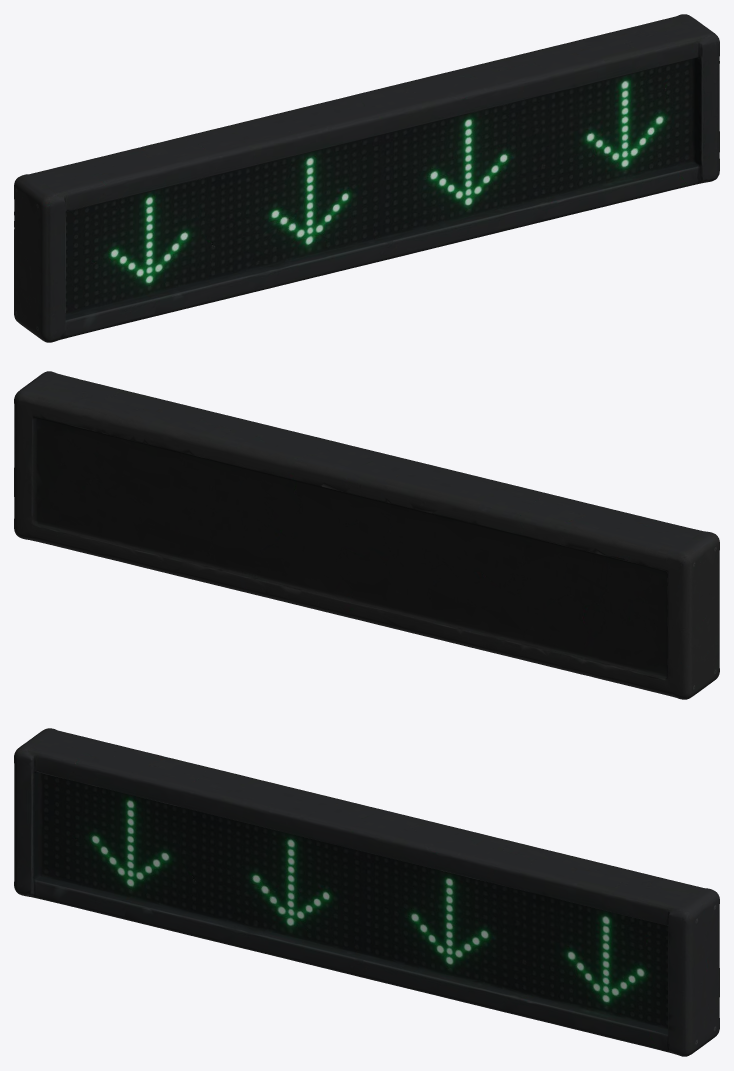
File: sign.glb
3 views of the same model, one above another, from view 1: azimuth 30°, elevation 25°; view 2: azimuth 150°, elevation 25°; view 3: azimuth 330°, elevation 25° (orthographic).
Bounding box in the file's own units: 1.9 × 0.3959 × 0.1671.
Materials: 1 (1 with a texture image).
